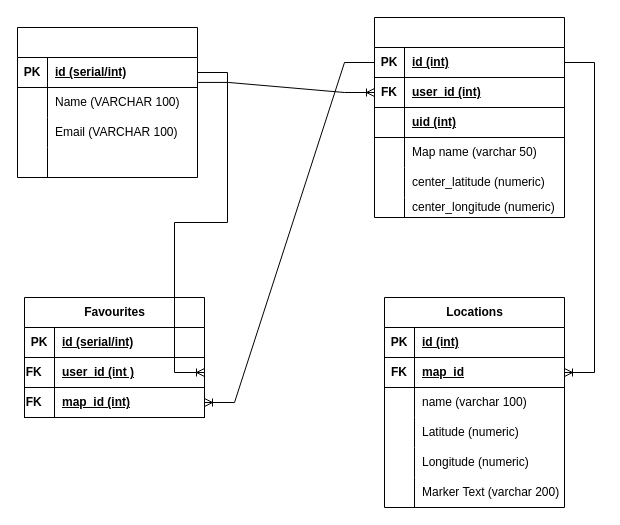
This 620x525 diagram has some shape labels left out. Each missing label, with the box of its shape:
Maps: (374, 16, 564, 218)
Users: (16, 26, 198, 178)
